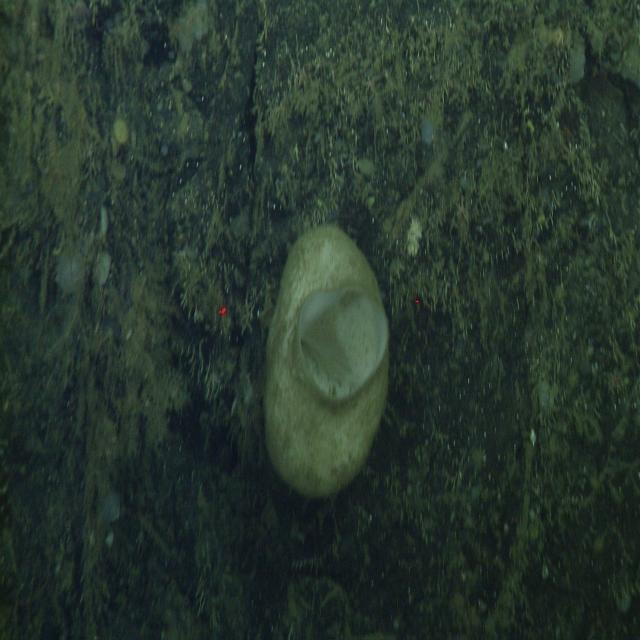Brittle Star: (450, 185, 473, 233), (358, 63, 382, 104)
